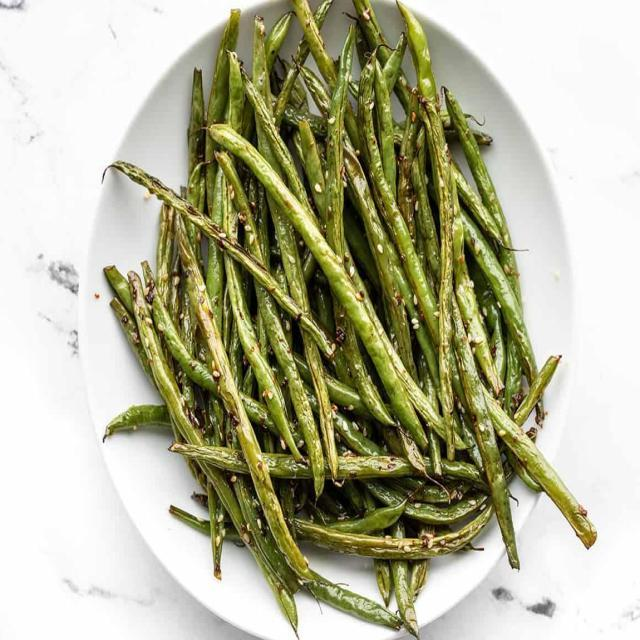Beans: (92, 0, 553, 635)
